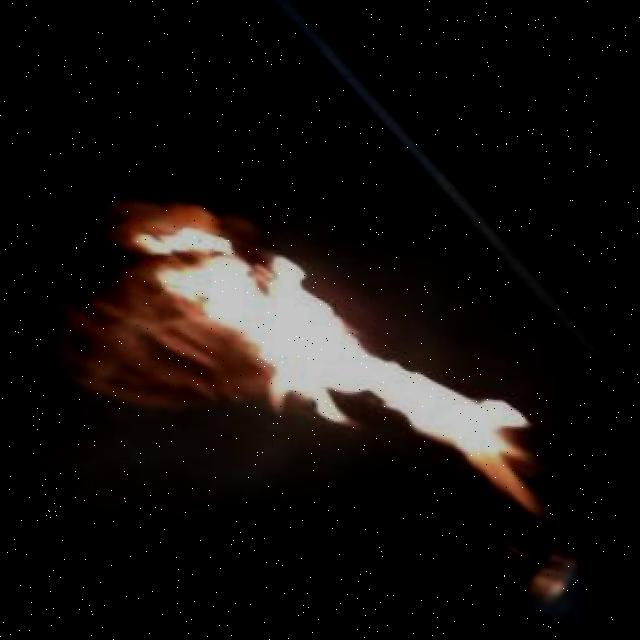fire: (116, 222, 587, 522)
